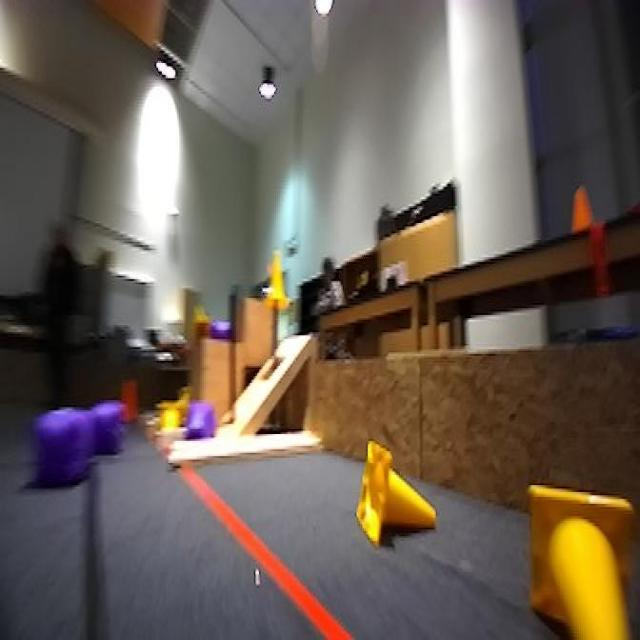frc_cone: (524, 476, 630, 636), (353, 441, 437, 545), (270, 242, 290, 313), (153, 400, 186, 432)
frc_cube: (36, 408, 94, 492), (94, 400, 127, 458), (203, 310, 234, 345), (184, 397, 209, 438)
